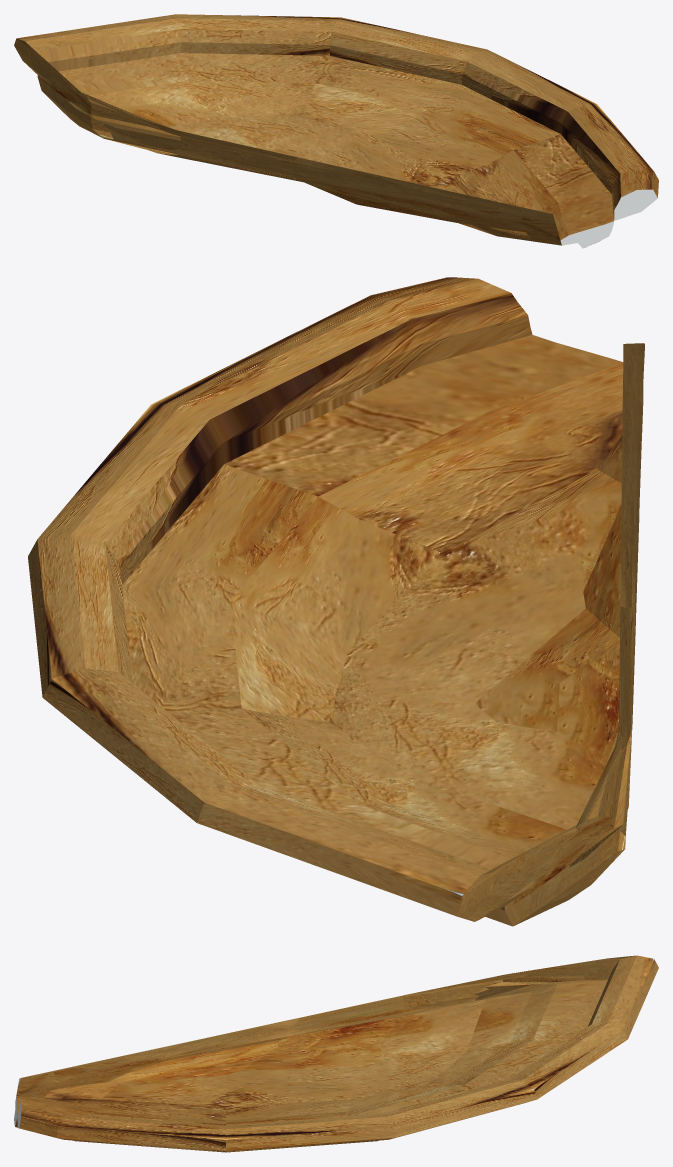
The model's file is sugartri2.gltf.
3 views of the same model, one above another, from view 1: azimuth 30°, elevation 25°; view 2: azimuth 150°, elevation 25°; view 3: azimuth 270°, elevation 25° (orthographic). The views are drawn at different scales.
Visible parts, largest first — view 1: 평면; view 2: 평면; view 3: 평면.
Part boxes in pixels (x1,y1,x2,y2): 평면: (14, 14, 658, 248); 평면: (28, 277, 644, 926); 평면: (14, 955, 658, 1152).
Bounding box in the file's own units: 0.8299 × 0.1016 × 1.23.
Materials: 1 (1 with a texture image).
